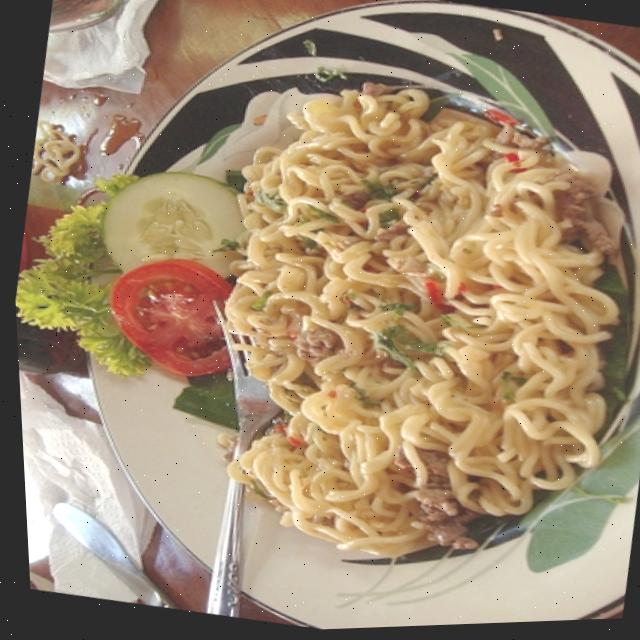面条主食: (27, 18, 640, 639)
